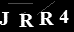4: (58, 9, 69, 24)
J: (1, 11, 9, 26)
R: (18, 12, 34, 28), (38, 11, 55, 26)
